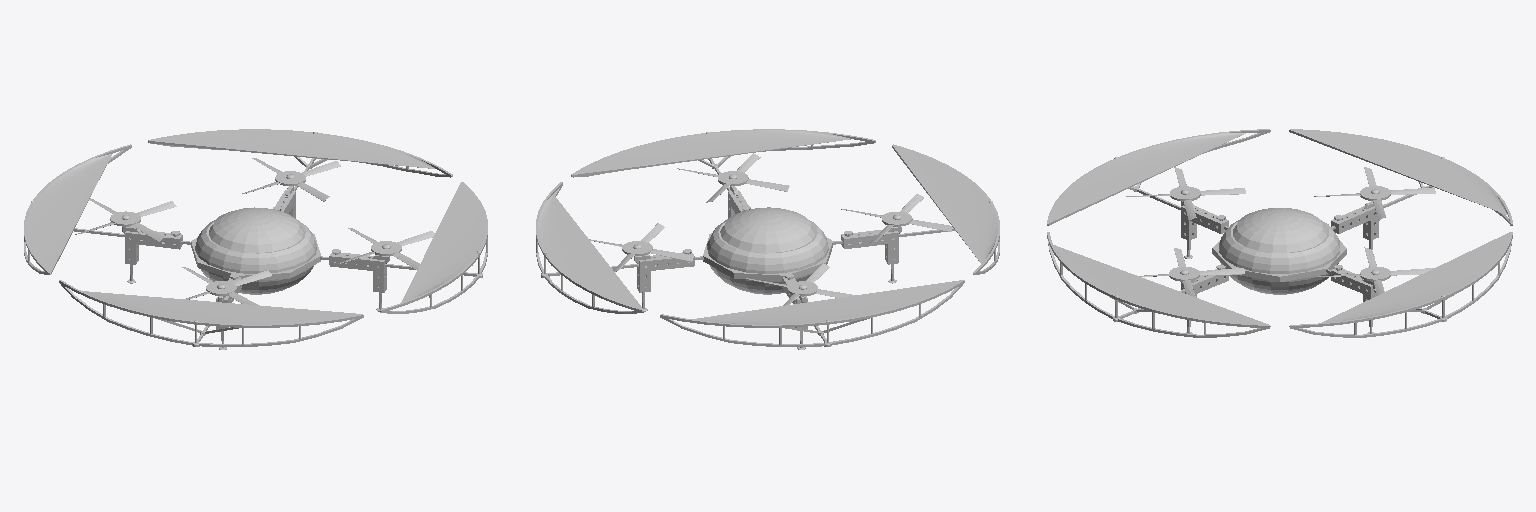
File: drone.obj
3 renders of one model, left to right at view 1: azimuth 30°, elevation 25°; view 2: azimuth 150°, elevation 25°; view 3: azimuth 270°, elevation 25°, orthographic.
Parts seen in each view (by area): view 1: polySurface341; view 2: polySurface341; view 3: polySurface341.
Part boxes in pixels (x1,y1,x2,y2): polySurface341: (24,129,487,349); polySurface341: (536,129,999,349); polySurface341: (1047,129,1512,337).
Size of the model in its own units: 108 by 20.39 by 108.